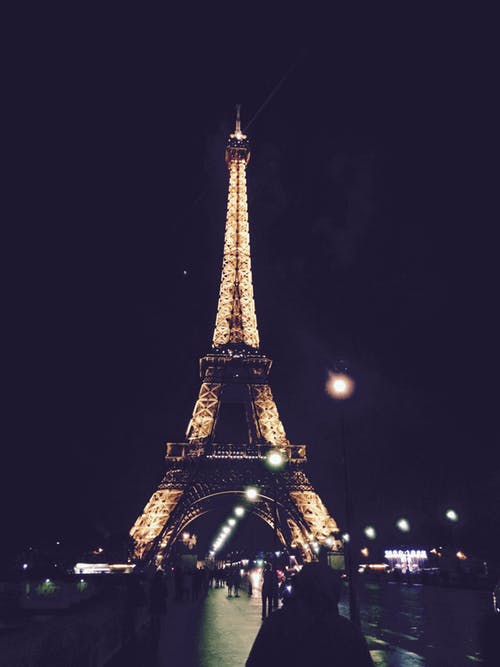eiffel tower: (102, 71, 361, 567)
